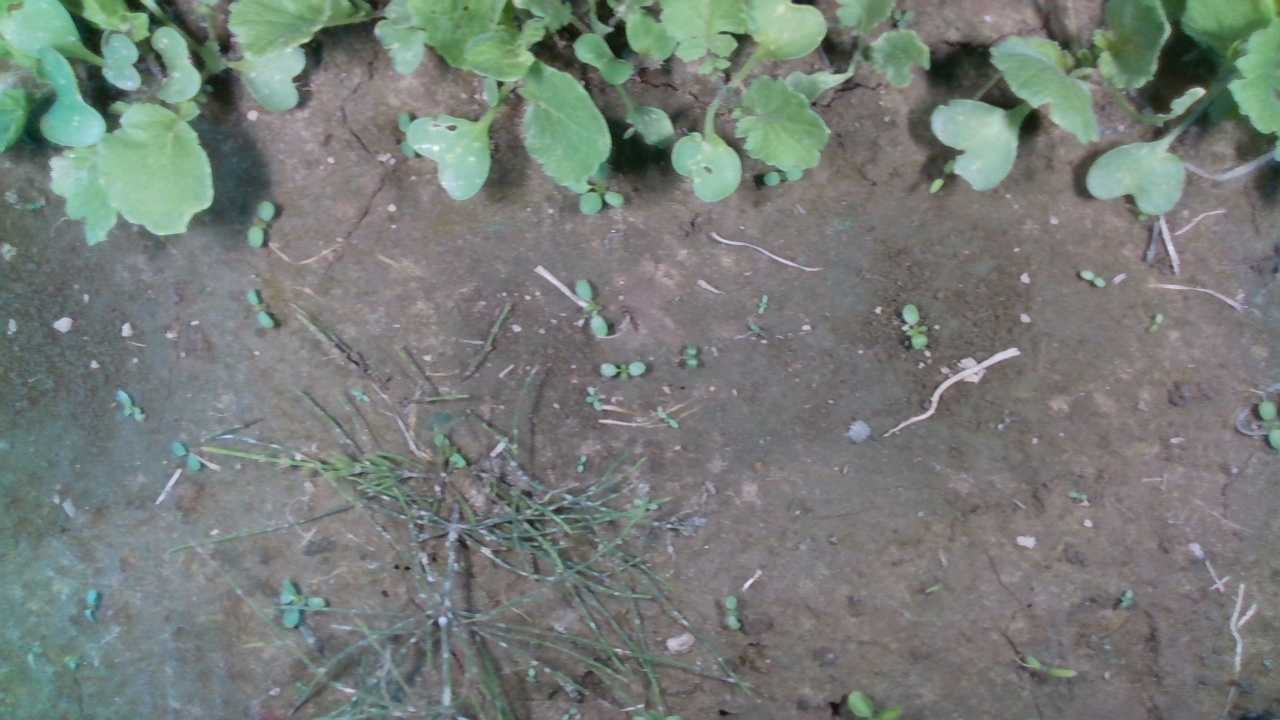weed: (574, 279, 609, 340), (246, 200, 276, 250), (900, 302, 929, 350), (246, 289, 275, 331), (168, 440, 202, 471), (598, 361, 647, 381), (724, 595, 741, 633), (82, 587, 98, 626), (585, 384, 605, 412), (1078, 268, 1107, 287), (1149, 313, 1163, 335), (575, 454, 588, 473)
